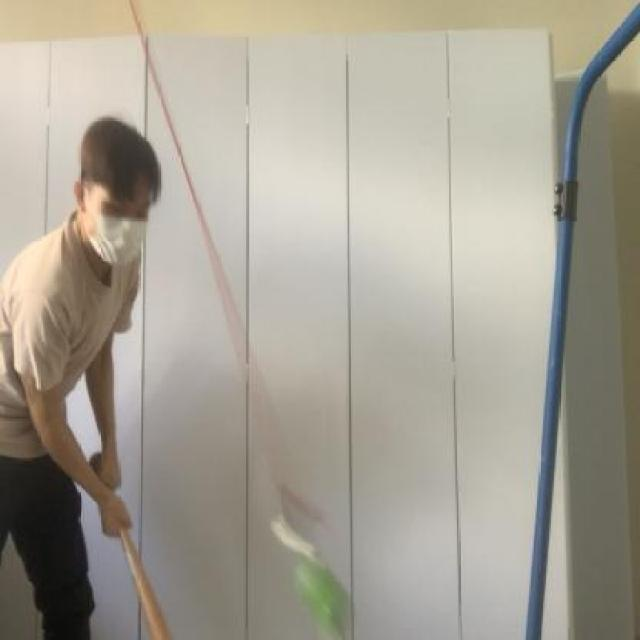baseball: (290, 551, 362, 640)
